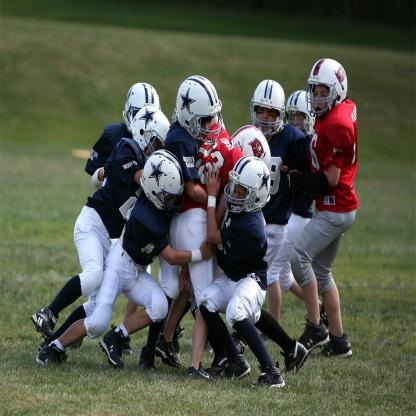face: (257, 104, 278, 134), (229, 182, 248, 213), (315, 84, 332, 118), (196, 110, 213, 141), (146, 134, 166, 159), (161, 185, 177, 209), (291, 109, 306, 133)
